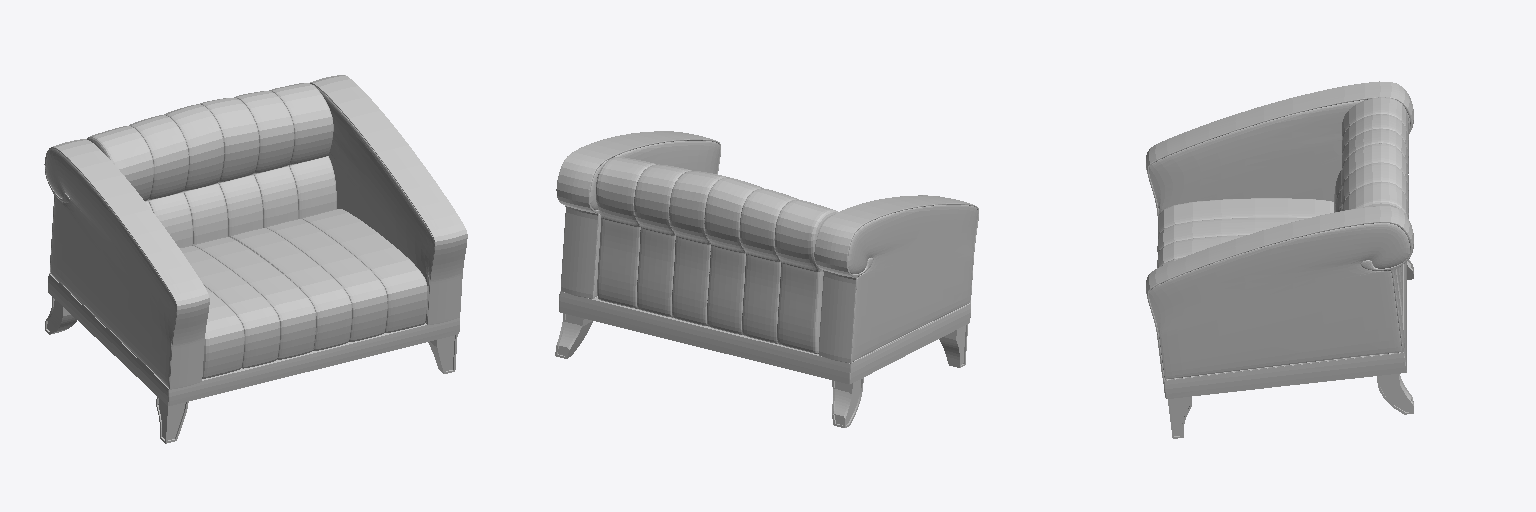
File: georgetti_new.obj
The picture shows the model from 3 angles: view 1: azimuth 30°, elevation 25°; view 2: azimuth 150°, elevation 25°; view 3: azimuth 270°, elevation 25°; orthographic projection.
Parts seen in each view (by area): view 1: Object.1; view 2: Object.1; view 3: Object.1.
Boxes of the visible parts, box(x1,y1,x2,y2) form: Object.1: box(44, 75, 467, 443); Object.1: box(555, 131, 978, 427); Object.1: box(1146, 81, 1413, 438).
Size of the model in its own units: 124 by 91.66 by 98.41.